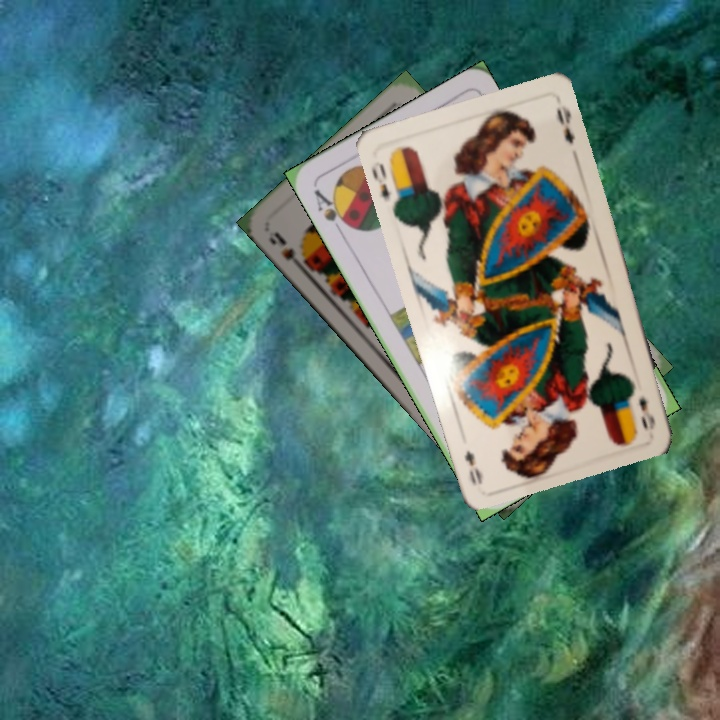EO: (372, 159, 405, 207), (635, 392, 659, 432)
S9: (264, 228, 312, 275)
SA: (309, 185, 354, 231)
